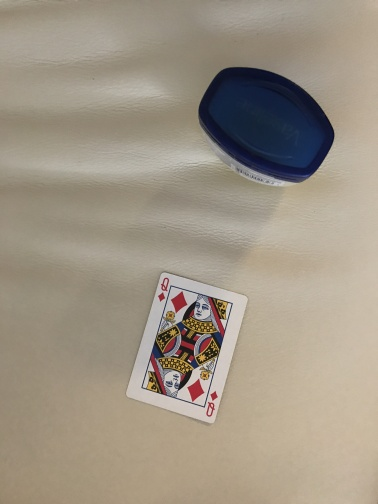queen: (124, 270, 250, 426)
